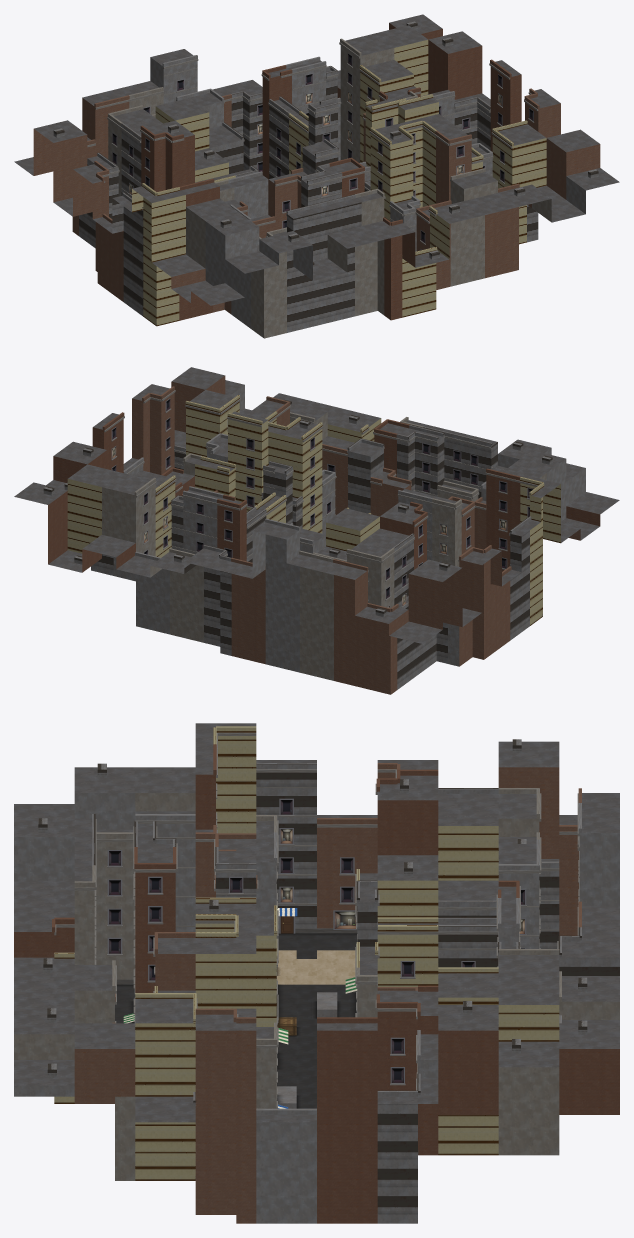
The model's file is downtown.gltf.
3 renders of one model, top to bottom at view 1: azimuth 30°, elevation 25°; view 2: azimuth 150°, elevation 25°; view 3: azimuth 270°, elevation 25°, orthographic. The views are drawn at different scales.
Visible parts, largest first — view 1: Quarter, Detail, Windows; view 2: Quarter, Detail, Windows; view 3: Quarter, Detail, Windows, Shadows.
Part boxes in pixels (bbox=[...]): Quarter: bbox=[14, 14, 619, 338]; Detail: bbox=[53, 21, 598, 338]; Windows: bbox=[108, 53, 534, 250]; Quarter: bbox=[14, 367, 619, 694]; Detail: bbox=[43, 386, 552, 694]; Windows: bbox=[111, 398, 533, 607]; Quarter: bbox=[14, 723, 619, 1223]; Detail: bbox=[38, 726, 587, 1220]; Windows: bbox=[94, 783, 579, 1108]; Shadows: bbox=[117, 933, 356, 1108].
Bounding box in the file's own units: 72 × 27.5 × 60.
25 materials, 24 textured.
